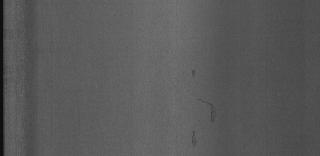water spot: (180, 66, 224, 148)
